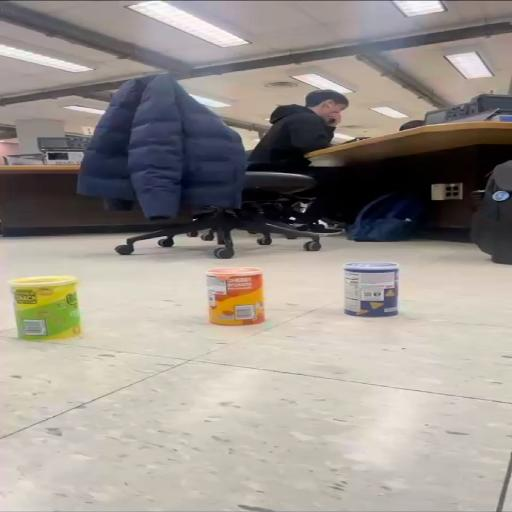pringle can: (8, 274, 85, 344), (208, 268, 268, 326), (343, 262, 401, 318)
